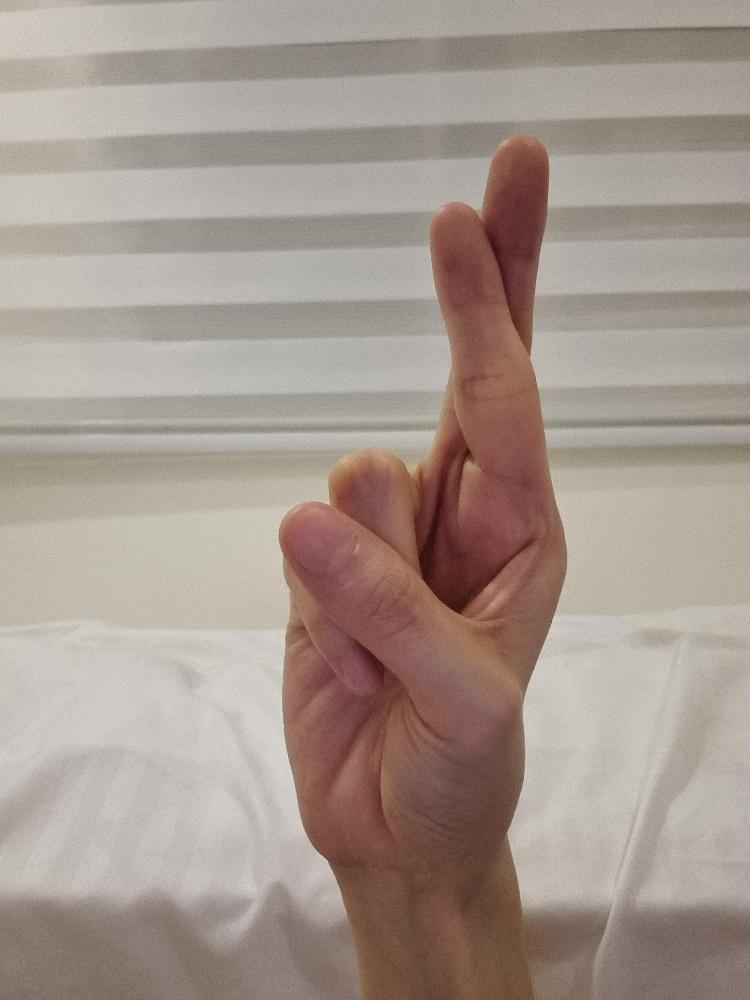r: (274, 130, 569, 872)
